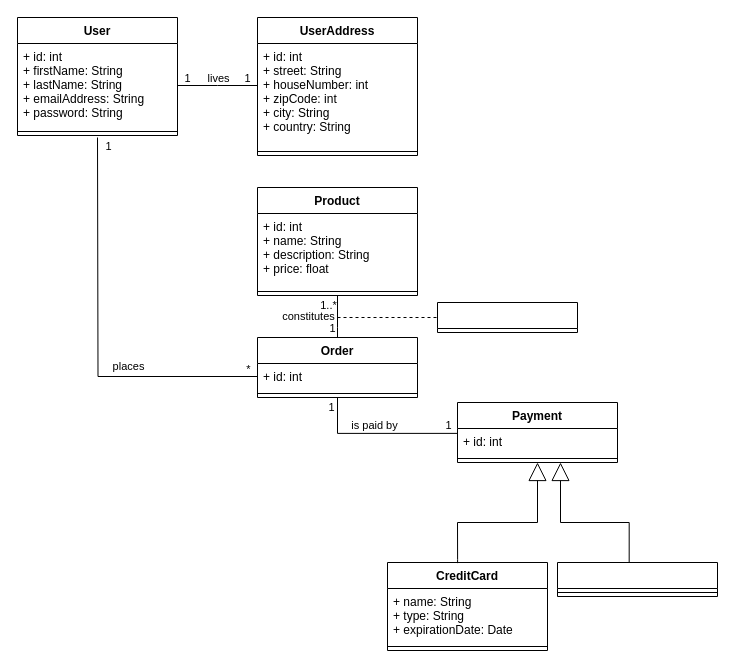
Image size: 735x668. Some labels were removed from this diagram. The centre of each missing label's shape, as x and y in pixels:
"Invoice" belongs at point 637,579.
"Quantity" belongs at point 507,317.
